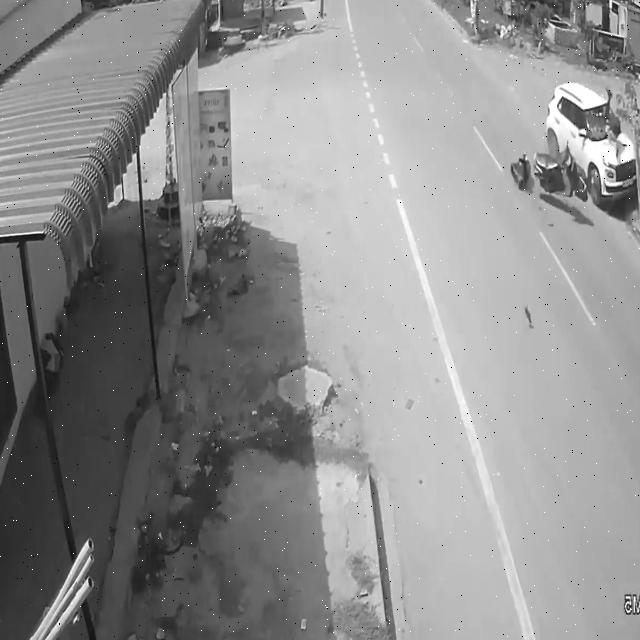accident: (508, 70, 640, 220)
